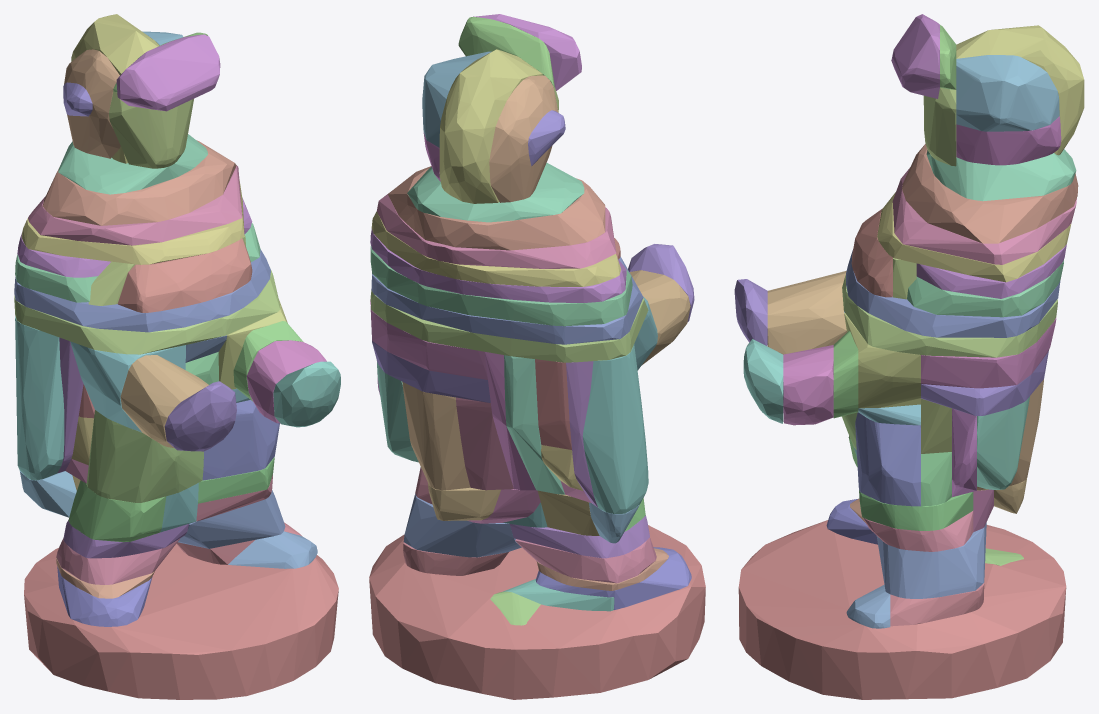
Rendered from cod_holder_hulls.glb.
The picture shows the model from 3 angles, left to right: view 1: azimuth 30°, elevation 25°; view 2: azimuth 150°, elevation 25°; view 3: azimuth 270°, elevation 25°; orthographic projection. The views are drawn at different scales.
Visible parts, largest first — view 1: geometry_0; view 2: geometry_0; view 3: geometry_0.
Boxes of the visible parts, <box> form: geometry_0: <box>14,14,340,699</box>; geometry_0: <box>369,14,705,699</box>; geometry_0: <box>734,14,1084,699</box>.
Bounding box in the file's own units: 0.1026 × 0.211 × 0.1094.
